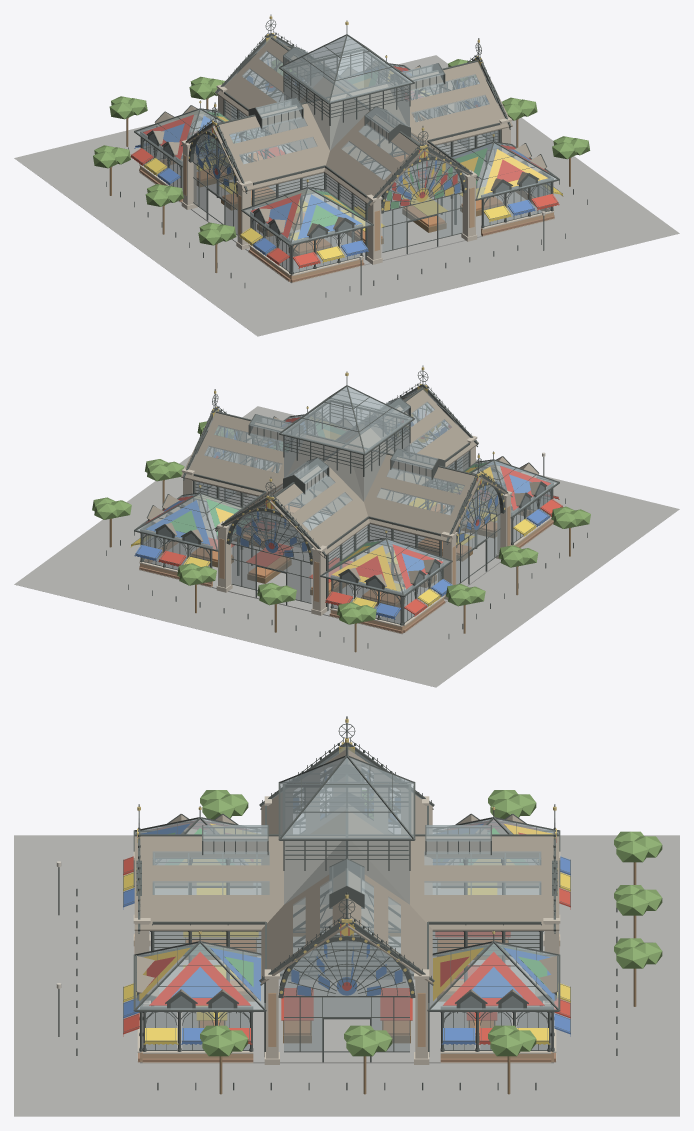
Rendered from clay-modernista-market-hall-clay-v003.glb.
3 renders of one model, top to bottom at view 1: azimuth 30°, elevation 25°; view 2: azimuth 150°, elevation 25°; view 3: azimuth 270°, elevation 25°, orthographic. The views are drawn at different scales.
Visible parts, largest first — view 1: CLAY_FOUNDATION, CLAY_GLASS, CLAY_HARDWARE, CLAY_ROOF, CLAY_PLANTING, CLAY_STONE, CLAY_STAIN_BLUE, CLAY_AWNING_YELLOW, CLAY_STAIN_RED, CLAY_TILE, CLAY_STAIN_GOLD, CLAY_PRODUCE (+5 smaller); view 2: CLAY_FOUNDATION, CLAY_GLASS, CLAY_HARDWARE, CLAY_ROOF, CLAY_PLANTING, CLAY_STONE, CLAY_STAIN_BLUE, CLAY_TIMBER, CLAY_AWNING_RED, CLAY_PRODUCE, CLAY_STAIN_RED, CLAY_TILE (+5 smaller); view 3: CLAY_FOUNDATION, CLAY_GLASS, CLAY_ROOF, CLAY_HARDWARE, CLAY_PLANTING, CLAY_STAIN_BLUE, CLAY_STONE, CLAY_STAIN_RED, CLAY_AWNING_RED, CLAY_AWNING_YELLOW, CLAY_TILE, CLAY_STAIN_GOLD (+5 smaller).
Boxes of the visible parts, bbox=[...] form: CLAY_FOUNDATION: bbox=[14, 55, 679, 336]; CLAY_GLASS: bbox=[136, 35, 556, 272]; CLAY_HARDWARE: bbox=[106, 14, 587, 297]; CLAY_ROOF: bbox=[147, 38, 546, 235]; CLAY_PLANTING: bbox=[93, 59, 590, 245]; CLAY_STONE: bbox=[139, 61, 554, 282]; CLAY_STAIN_BLUE: bbox=[162, 58, 535, 239]; CLAY_AWNING_YELLOW: bbox=[144, 154, 563, 262]; CLAY_STAIN_RED: bbox=[143, 66, 548, 238]; CLAY_TILE: bbox=[140, 113, 553, 282]; CLAY_STAIN_GOLD: bbox=[155, 35, 547, 210]; CLAY_PRODUCE: bbox=[196, 153, 502, 253]; CLAY_FOUNDATION: bbox=[14, 406, 679, 687]; CLAY_GLASS: bbox=[137, 386, 557, 623]; CLAY_HARDWARE: bbox=[106, 365, 587, 648]; CLAY_ROOF: bbox=[147, 389, 546, 586]; CLAY_PLANTING: bbox=[92, 421, 590, 624]; CLAY_STONE: bbox=[139, 412, 553, 633]; CLAY_STAIN_BLUE: bbox=[146, 409, 538, 578]; CLAY_TIMBER: bbox=[109, 480, 571, 652]; CLAY_AWNING_RED: bbox=[158, 459, 562, 616]; CLAY_PRODUCE: bbox=[191, 504, 497, 604]; CLAY_STAIN_RED: bbox=[145, 409, 550, 589]; CLAY_TILE: bbox=[140, 464, 553, 632]; CLAY_FOUNDATION: bbox=[14, 835, 679, 1116]; CLAY_GLASS: bbox=[135, 746, 558, 1051]; CLAY_ROOF: bbox=[134, 749, 559, 1000]; CLAY_HARDWARE: bbox=[58, 716, 617, 1090]; CLAY_PLANTING: bbox=[200, 790, 662, 1056]; CLAY_STAIN_BLUE: bbox=[140, 770, 554, 1000]; CLAY_STONE: bbox=[133, 796, 560, 1064]; CLAY_STAIN_RED: bbox=[137, 820, 556, 1005]; CLAY_AWNING_RED: bbox=[123, 856, 570, 1044]; CLAY_AWNING_YELLOW: bbox=[123, 872, 570, 1044]; CLAY_TILE: bbox=[134, 883, 559, 1062]; CLAY_STAIN_GOLD: bbox=[137, 746, 556, 1000].
Bounding box in the file's own units: 74 × 29.4 × 74.
